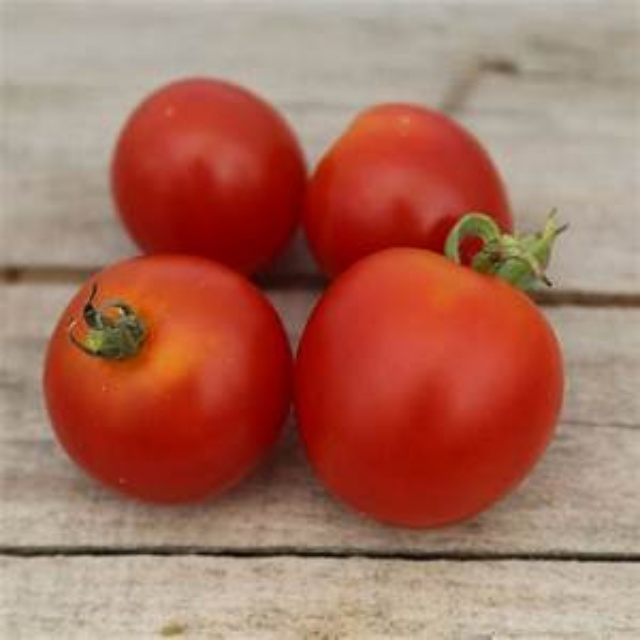tomato: (284, 245, 574, 537), (42, 261, 305, 505), (292, 102, 518, 293), (115, 79, 306, 285)
